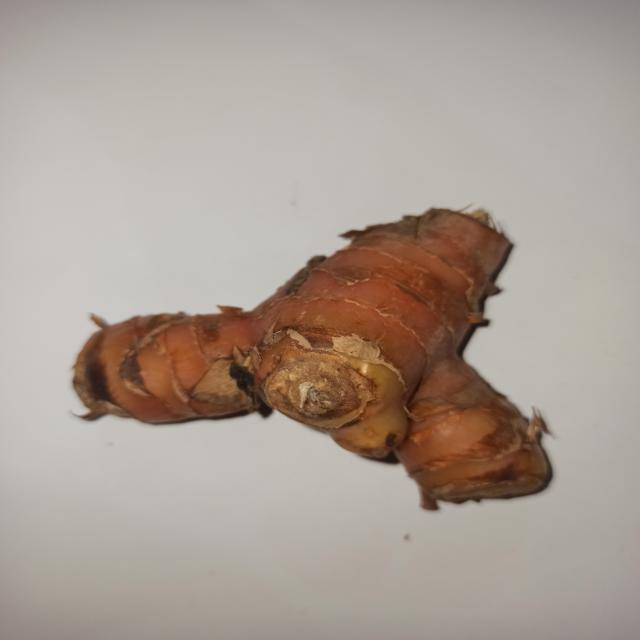ginger: (61, 192, 562, 483)
